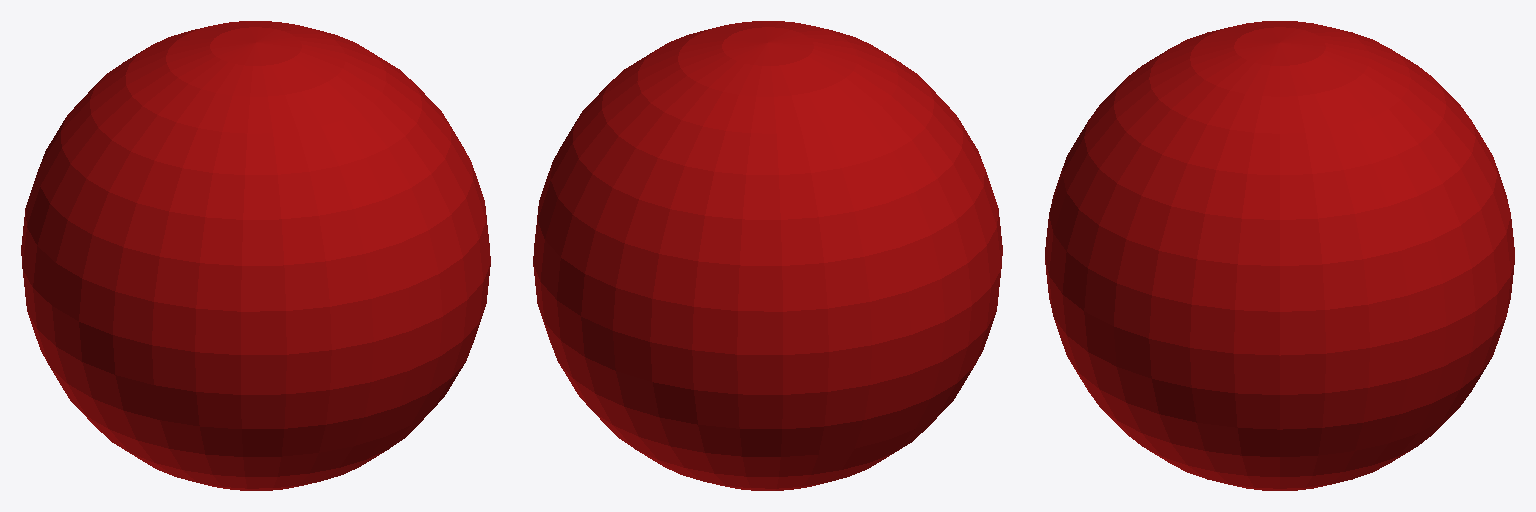
Rendered from TrafficLight1Active.obj.
The picture shows the model from 3 angles: view 1: azimuth 30°, elevation 25°; view 2: azimuth 150°, elevation 25°; view 3: azimuth 270°, elevation 25°; orthographic projection.
Parts seen in each view (by area): view 1: Kugel001; view 2: Kugel001; view 3: Kugel001.
Part boxes in pixels (x1,y1,x2,y2): Kugel001: (21, 21, 490, 490); Kugel001: (533, 21, 1002, 490); Kugel001: (1045, 21, 1514, 490).
Size of the model in its own units: 66.59 by 66.59 by 66.59.